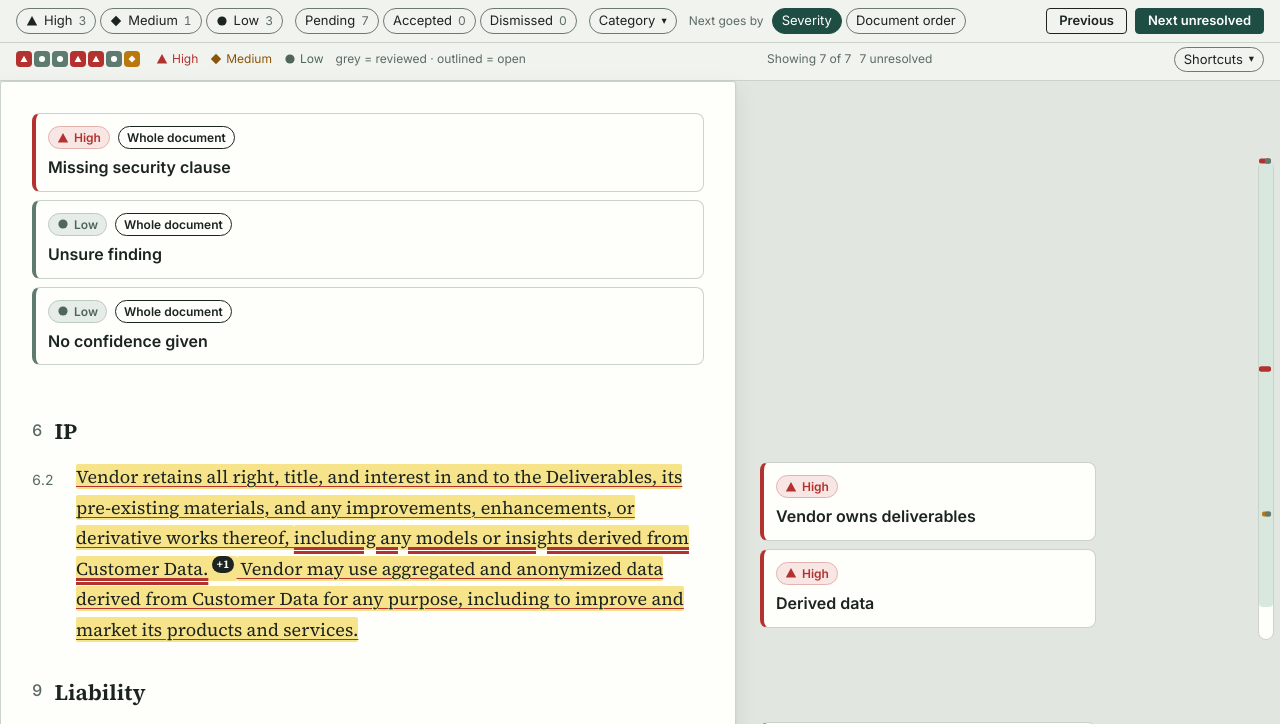
Test: filtering › says so when nothing matches, and clears with one click
Click the button "Accepted 0" at (429, 21), box [383,8,476,34]
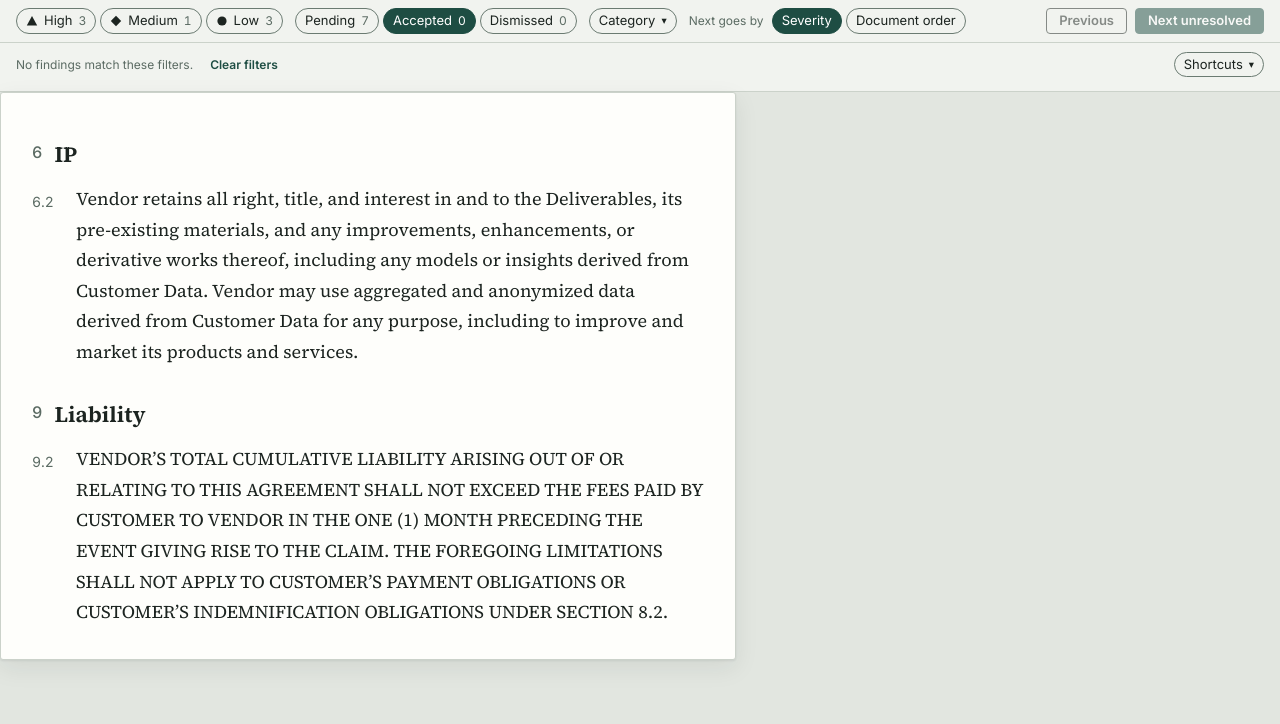
Result: the text "No findings match these filters." is shown at [16,56,193,72]
Click the button "Clear filters" at (244, 64), box [201,46,287,82]
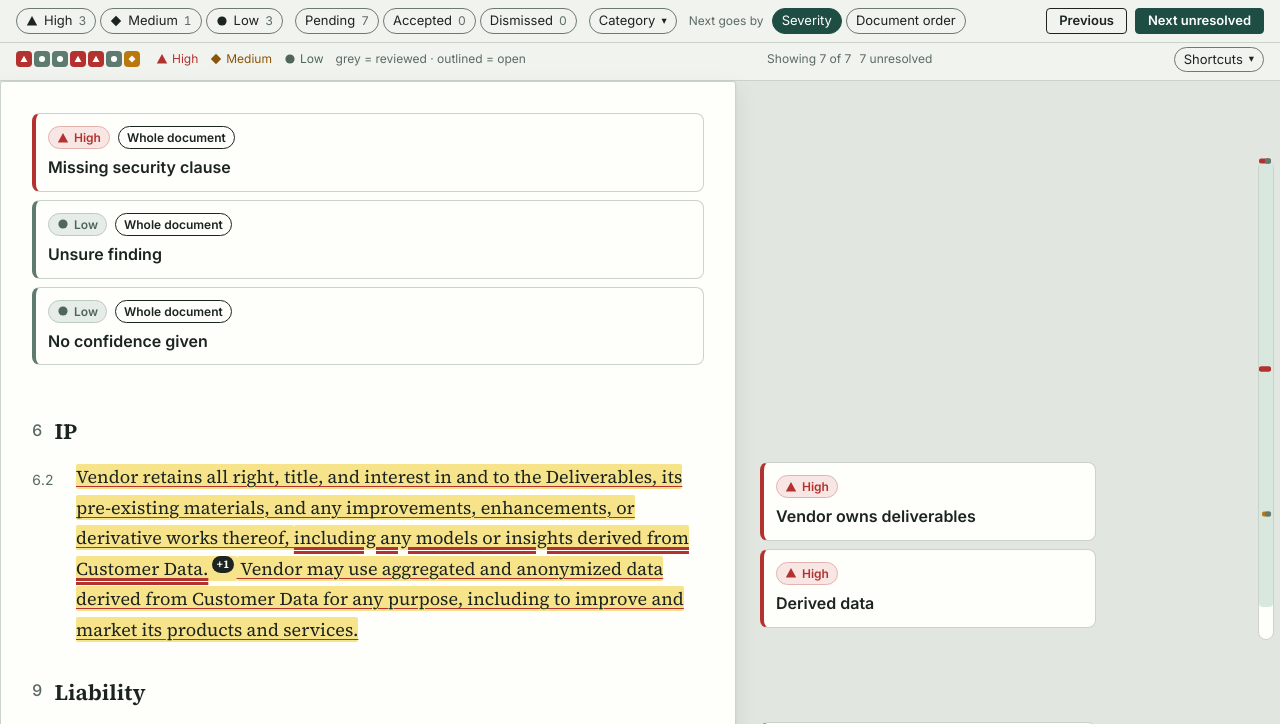
Result: the text "Showing 7 of 7" is shown at [767,50,851,68]
